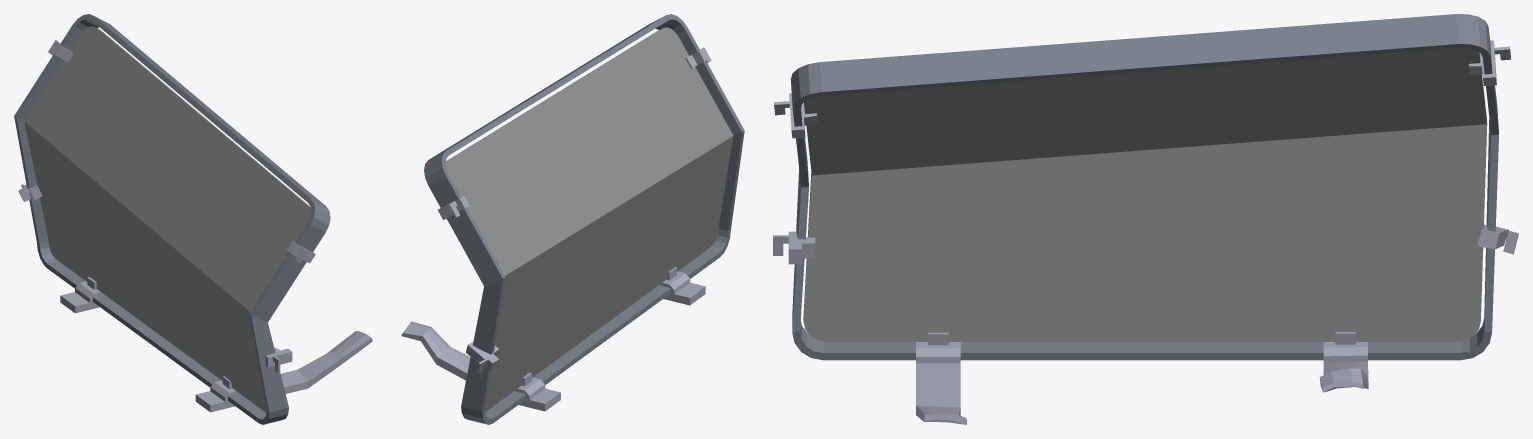
3 views of the same model, side by side, from view 1: azimuth 30°, elevation 25°; view 2: azimuth 150°, elevation 25°; view 3: azimuth 270°, elevation 25° (orthographic). The views are drawn at different scales.
Visible parts, largest first — view 1: Cube.001; view 2: Cube.001; view 3: Cube.001.
Part boxes in pixels (left/top/right/bottom): Cube.001: left=14, top=14, right=372, bottom=424; Cube.001: left=401, top=14, right=744, bottom=424; Cube.001: left=773, top=14, right=1518, bottom=424.
Size of the model in its own units: 0.6013 by 0.8508 by 1.53.
